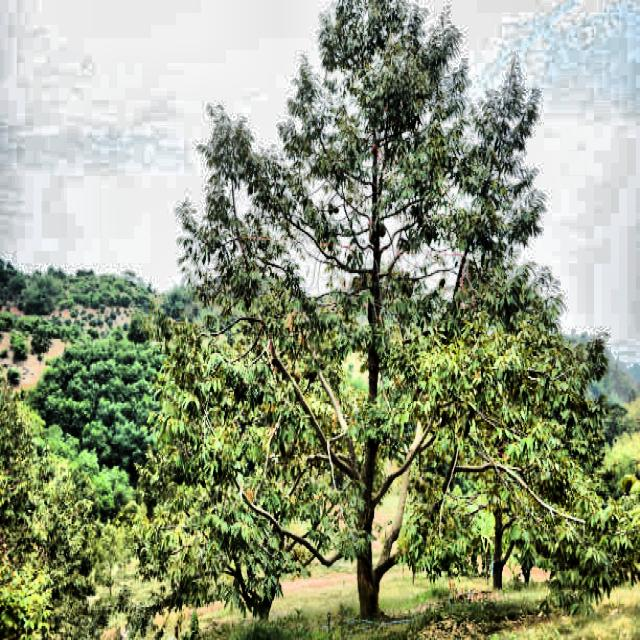arvore: (352, 190, 392, 636), (483, 456, 512, 604)
